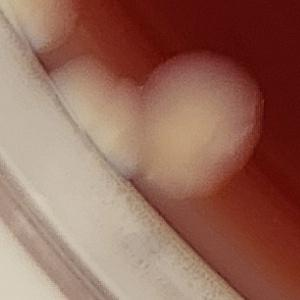colony: (130, 50, 273, 202), (72, 73, 162, 185), (32, 53, 120, 146), (0, 0, 88, 60)
